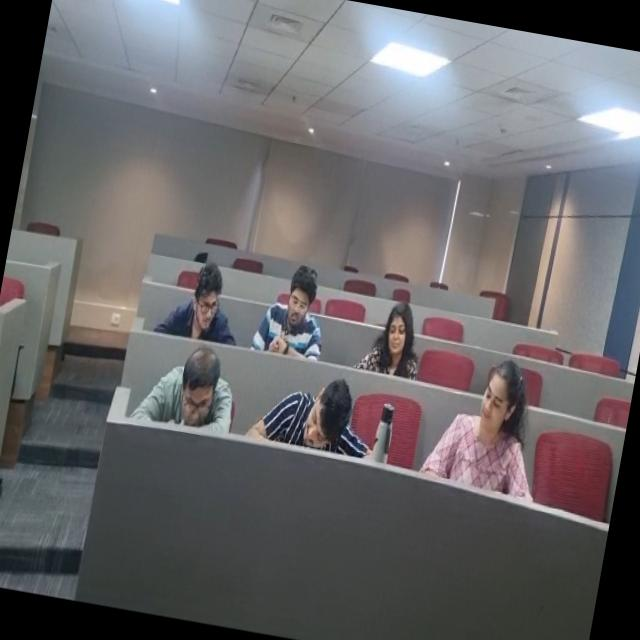cheating: (132, 332, 258, 454), (256, 242, 342, 371), (160, 254, 248, 362), (274, 372, 381, 460), (462, 354, 546, 464)
non-cheating: (352, 296, 434, 391)
